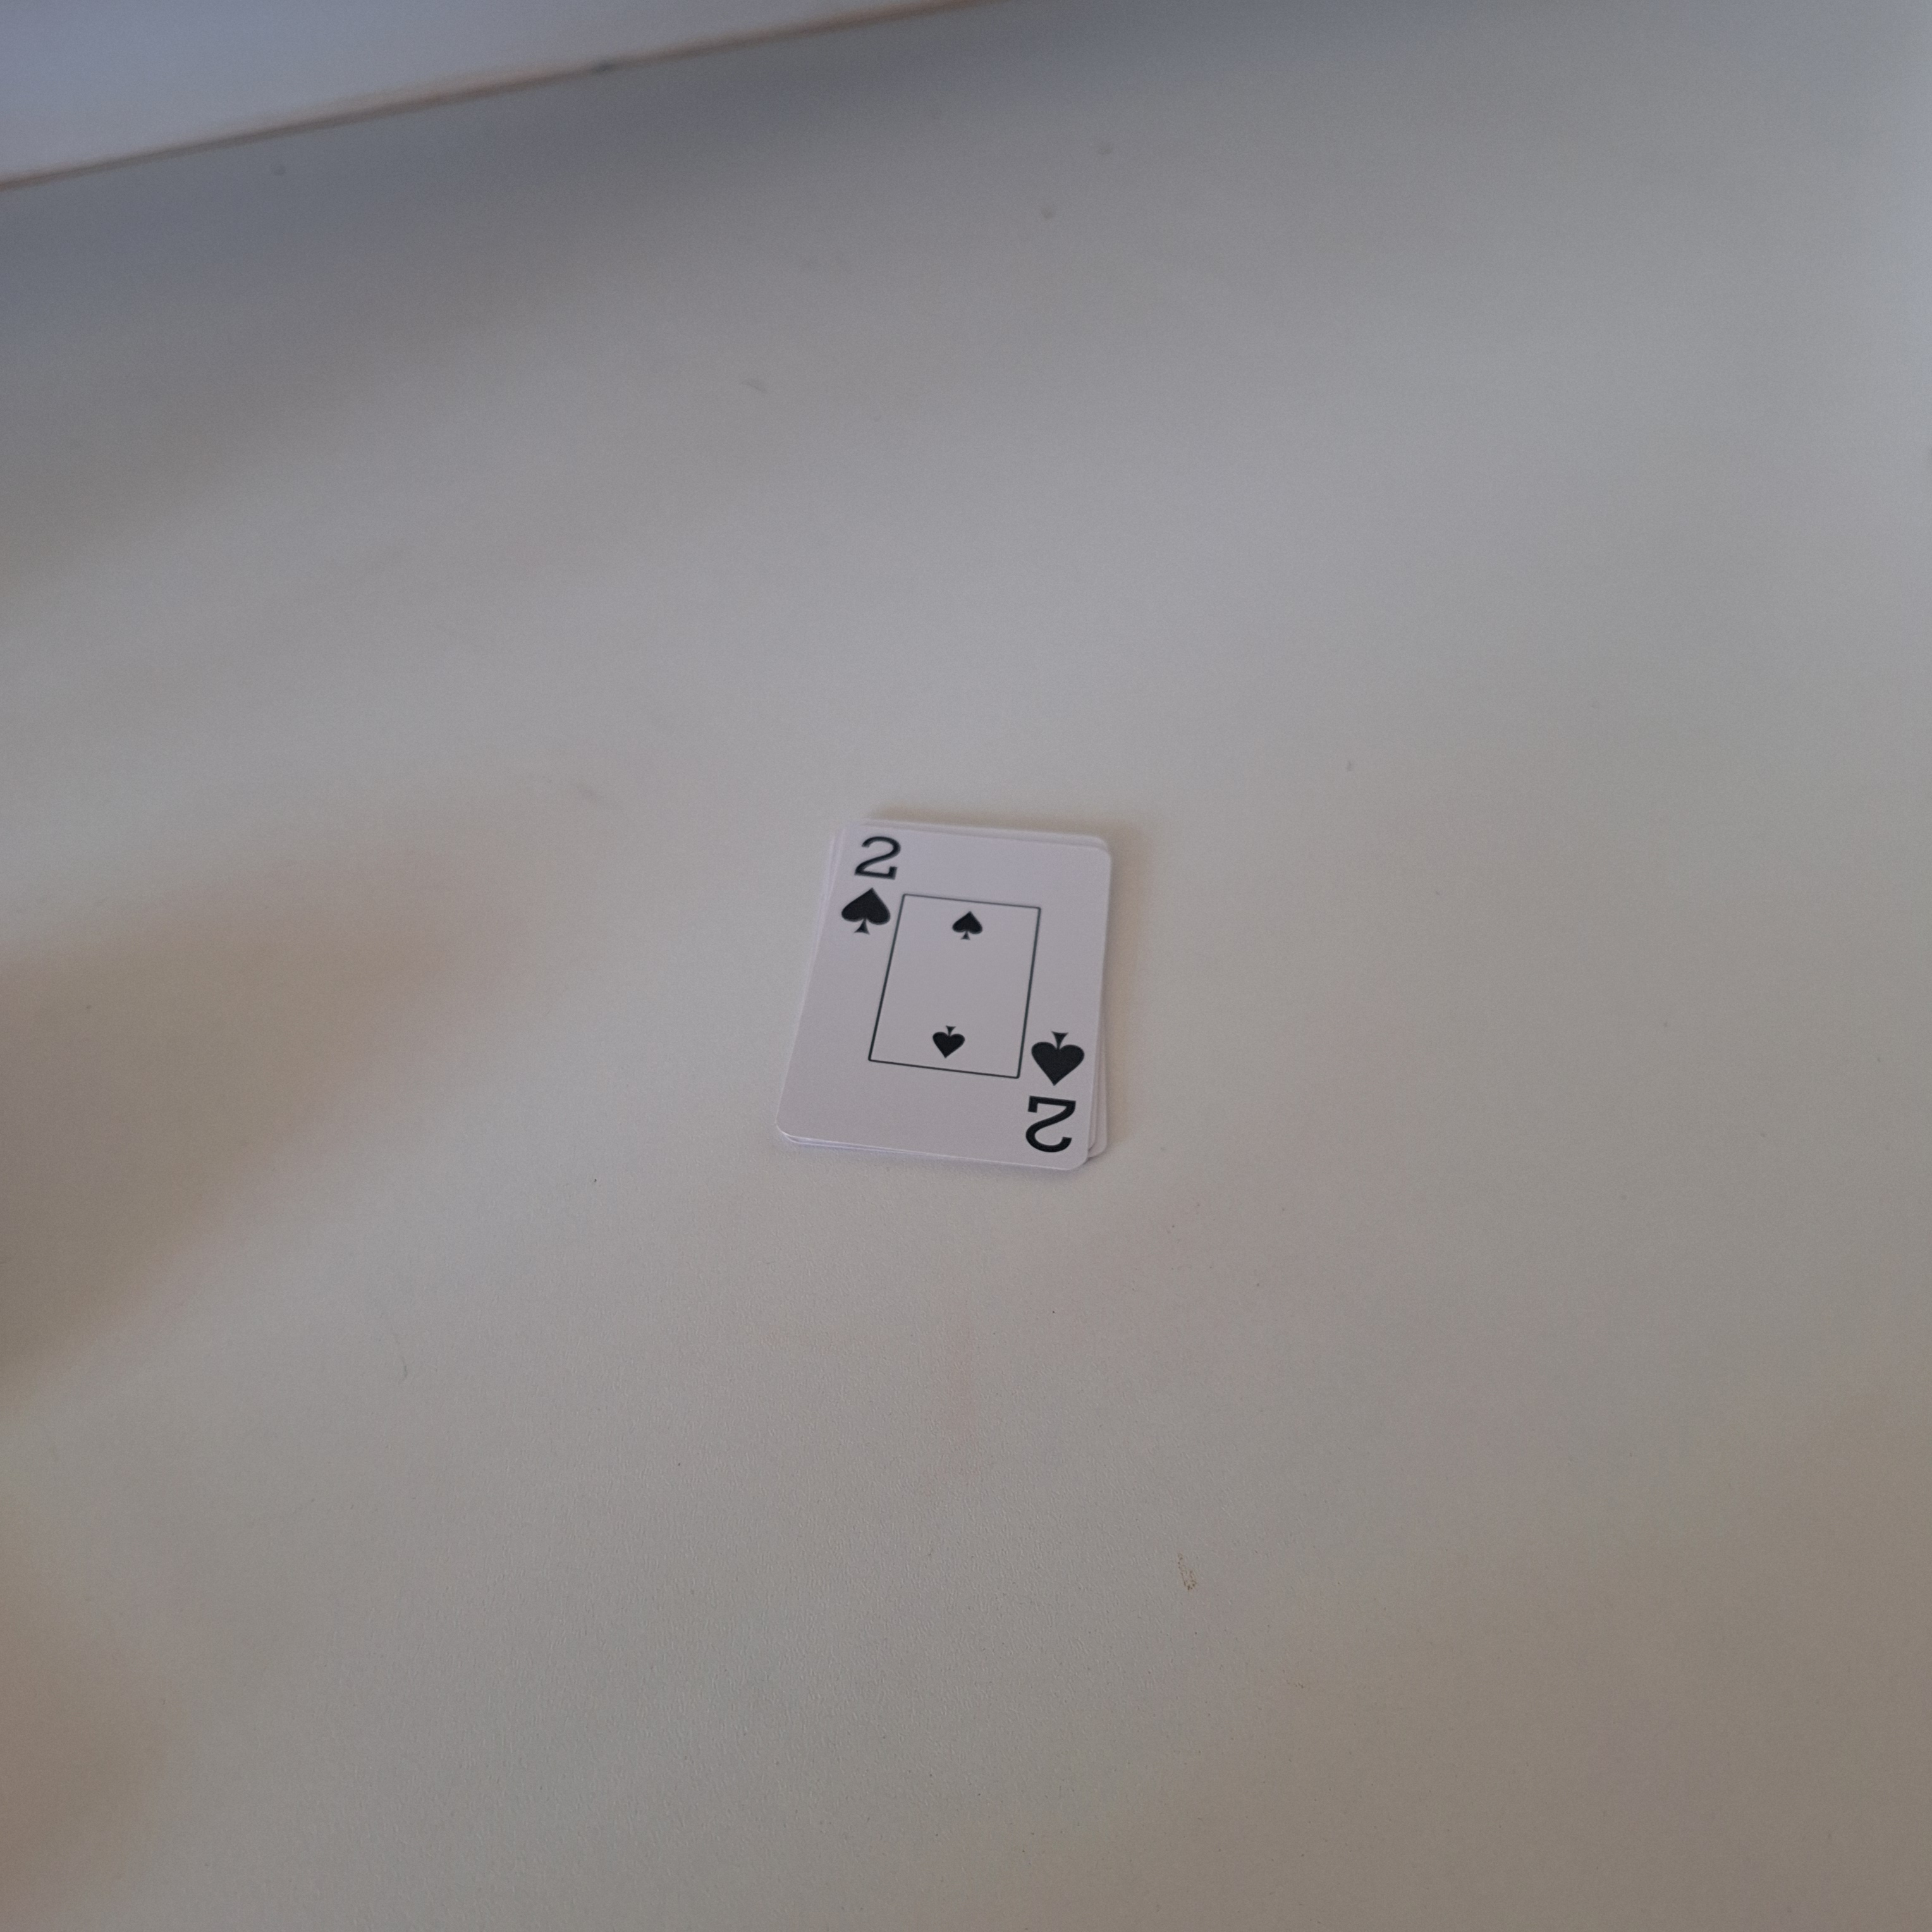2E: (1023, 1021, 1088, 1159), (832, 830, 911, 943)
